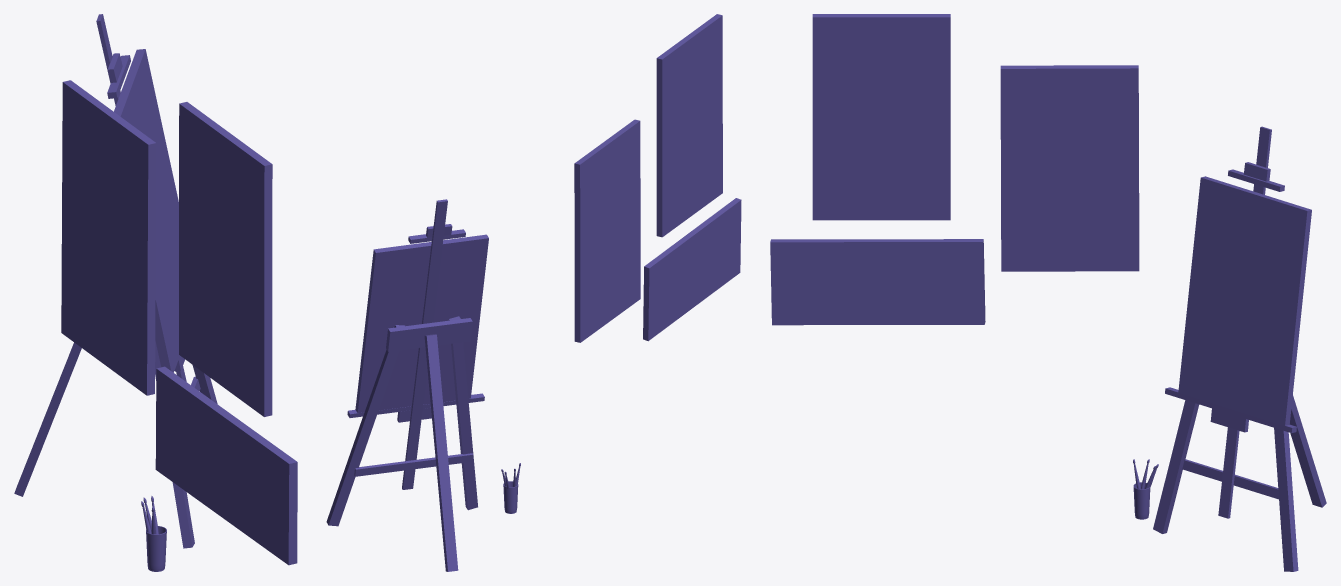
Rendered from UV Set 9 (Easel and canvases).fbx.
3 views of the same model, side by side, from view 1: azimuth 30°, elevation 25°; view 2: azimuth 150°, elevation 25°; view 3: azimuth 270°, elevation 25° (orthographic). The views are drawn at different scales.
Visible parts, largest first — view 1: Canvas, Canvas1, Canvas2, Canvas_on_easel, Easel1, Glass_Cylinder; view 2: Easel1, Canvas_on_easel, Canvas, Canvas1, Canvas2; view 3: Canvas1, Canvas, Canvas_on_easel, Canvas2, Easel1.
Boxes of the visible parts, x1,y1,x2,y2 form: Canvas: [61, 80, 156, 395]; Canvas1: [179, 102, 272, 416]; Canvas2: [155, 366, 297, 565]; Canvas_on_easel: [114, 49, 178, 370]; Easel1: [14, 14, 217, 548]; Glass_Cylinder: [146, 526, 166, 571]; Easel1: [326, 199, 484, 571]; Canvas_on_easel: [355, 234, 488, 413]; Canvas: [574, 119, 640, 342]; Canvas1: [656, 14, 722, 237]; Canvas2: [643, 198, 741, 341]; Canvas1: [812, 14, 950, 220]; Canvas: [1000, 65, 1139, 271]; Canvas_on_easel: [1178, 176, 1311, 425]; Canvas2: [770, 239, 985, 325]; Easel1: [1153, 126, 1326, 571].
Size of the model in its own units: 125 by 260 by 282.
